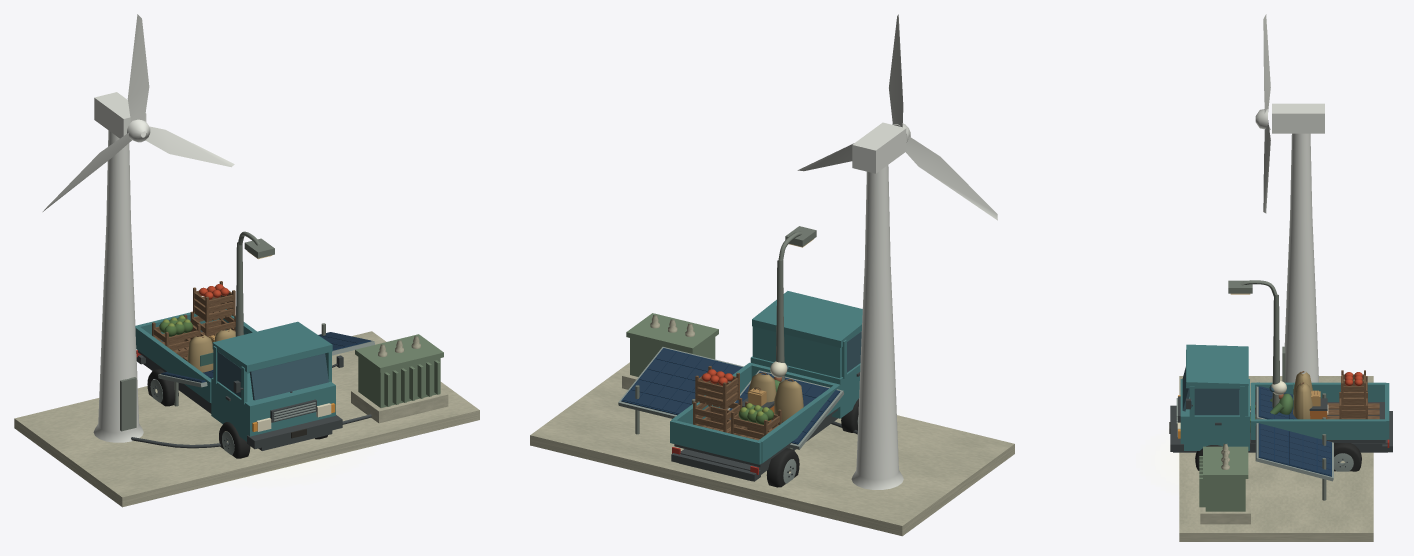
Rendered from infrastructure.glb.
The picture shows the model from 3 angles, left to right: view 1: azimuth 30°, elevation 25°; view 2: azimuth 150°, elevation 25°; view 3: azimuth 270°, elevation 25°; orthographic projection. The views are drawn at different scales.
Parts seen in each view (by area): view 1: power_station_foundation, market_truck_Weathered_blue_green_truck_paint, energy_turbine_Off_white_galvanized_turbine_steel, distribution_transformer_Weathered_sage_transformer_housing, aerodynamic_blade (×3), market_truck_Dark_tinted_vehicle_glazing, market_truck_Gray_vehicle_bumpers_and_chassis, distribution_transformer_hand_trowelled_lime_concrete, farm_street_lamp_Gray_green_street_pole_steel, tomato_crate_warm_weathered_hardwood, turbine_access_panel, leafy_produce_crate_warm_weathered_hardwood (+2 smaller); view 2: power_station_foundation, market_truck_Weathered_blue_green_truck_paint, energy_turbine_Off_white_galvanized_turbine_steel, solar_panel_array_Blue_black_photovoltaic_cells (×2), distribution_transformer_Weathered_sage_transformer_housing, aerodynamic_blade (×2), market_truck_Gray_vehicle_bumpers_and_chassis, farm_street_lamp_Gray_green_street_pole_steel, tomato_crate_warm_weathered_hardwood, lower_produce_crate_warm_weathered_hardwood, woven_sack, leafy_produce_crate_warm_weathered_hardwood (+2 smaller); view 3: power_station_foundation, market_truck_Weathered_blue_green_truck_paint, energy_turbine_Off_white_galvanized_turbine_steel, distribution_transformer_Weathered_sage_transformer_housing, solar_panel_array_Blue_black_photovoltaic_cells (×2), market_truck_Gray_vehicle_bumpers_and_chassis, market_truck_Dark_tinted_vehicle_glazing, farm_street_lamp_Gray_green_street_pole_steel, distribution_transformer_hand_trowelled_lime_concrete, aerodynamic_blade (×2), tomato_crate_warm_weathered_hardwood, woven_sack (+5 smaller).
Part boxes in pixels (bbox=[...]): power_station_foundation: bbox=[14, 331, 479, 507]; market_truck_Weathered_blue_green_truck_paint: bbox=[135, 309, 335, 441]; energy_turbine_Off_white_galvanized_turbine_steel: bbox=[93, 92, 146, 442]; distribution_transformer_Weathered_sage_transformer_housing: bbox=[355, 334, 443, 407]; aerodynamic_blade (×3): bbox=[43, 14, 234, 211]; market_truck_Dark_tinted_vehicle_glazing: bbox=[217, 351, 328, 400]; market_truck_Gray_vehicle_bumpers_and_chassis: bbox=[136, 331, 343, 450]; distribution_transformer_hand_trowelled_lime_concrete: bbox=[351, 336, 448, 423]; farm_street_lamp_Gray_green_street_pole_steel: bbox=[235, 231, 274, 336]; tomato_crate_warm_weathered_hardwood: bbox=[193, 281, 235, 322]; turbine_access_panel: bbox=[120, 377, 136, 431]; leafy_produce_crate_warm_weathered_hardwood: bbox=[152, 314, 200, 357]; power_station_foundation: bbox=[530, 362, 1014, 536]; market_truck_Weathered_blue_green_truck_paint: bbox=[670, 291, 862, 464]; energy_turbine_Off_white_galvanized_turbine_steel: bbox=[851, 122, 906, 489]; solar_panel_array_Blue_black_photovoltaic_cells (×2): bbox=[623, 349, 837, 442]; distribution_transformer_Weathered_sage_transformer_housing: bbox=[626, 313, 718, 376]; aerodynamic_blade (×2): bbox=[889, 14, 997, 220]; market_truck_Gray_vehicle_bumpers_and_chassis: bbox=[671, 372, 859, 481]; farm_street_lamp_Gray_green_street_pole_steel: bbox=[776, 226, 816, 381]; tomato_crate_warm_weathered_hardwood: bbox=[695, 366, 739, 409]; lower_produce_crate_warm_weathered_hardwood: bbox=[693, 398, 742, 433]; woven_sack: bbox=[774, 379, 803, 422]; leafy_produce_crate_warm_weathered_hardwood: bbox=[731, 401, 781, 440]; power_station_foundation: bbox=[1179, 376, 1373, 541]; market_truck_Weathered_blue_green_truck_paint: bbox=[1180, 344, 1389, 450]; energy_turbine_Off_white_galvanized_turbine_steel: bbox=[1272, 103, 1324, 382]; distribution_transformer_Weathered_sage_transformer_housing: bbox=[1199, 446, 1248, 511]; solar_panel_array_Blue_black_photovoltaic_cells (×2): bbox=[1260, 386, 1330, 475]; market_truck_Gray_vehicle_bumpers_and_chassis: bbox=[1170, 396, 1392, 452]; market_truck_Dark_tinted_vehicle_glazing: bbox=[1182, 367, 1239, 415]; farm_street_lamp_Gray_green_street_pole_steel: bbox=[1228, 280, 1279, 407]; distribution_transformer_hand_trowelled_lime_concrete: bbox=[1200, 443, 1250, 524]; aerodynamic_blade (×2): bbox=[1263, 14, 1270, 213]; tomato_crate_warm_weathered_hardwood: bbox=[1341, 370, 1365, 405]; woven_sack: bbox=[1293, 383, 1312, 419].
Size of the model in its own units: 7.88 by 8.55 by 6.2.
Materials: 34 (5 with a texture image).
